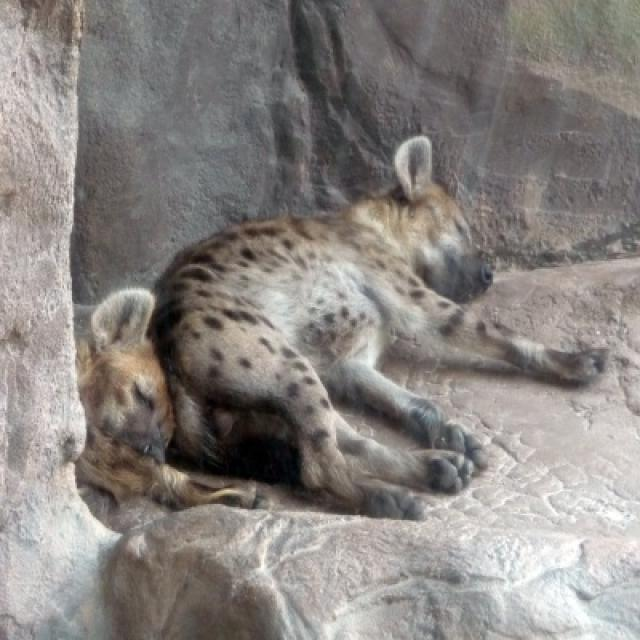hyena: (160, 136, 605, 517)
